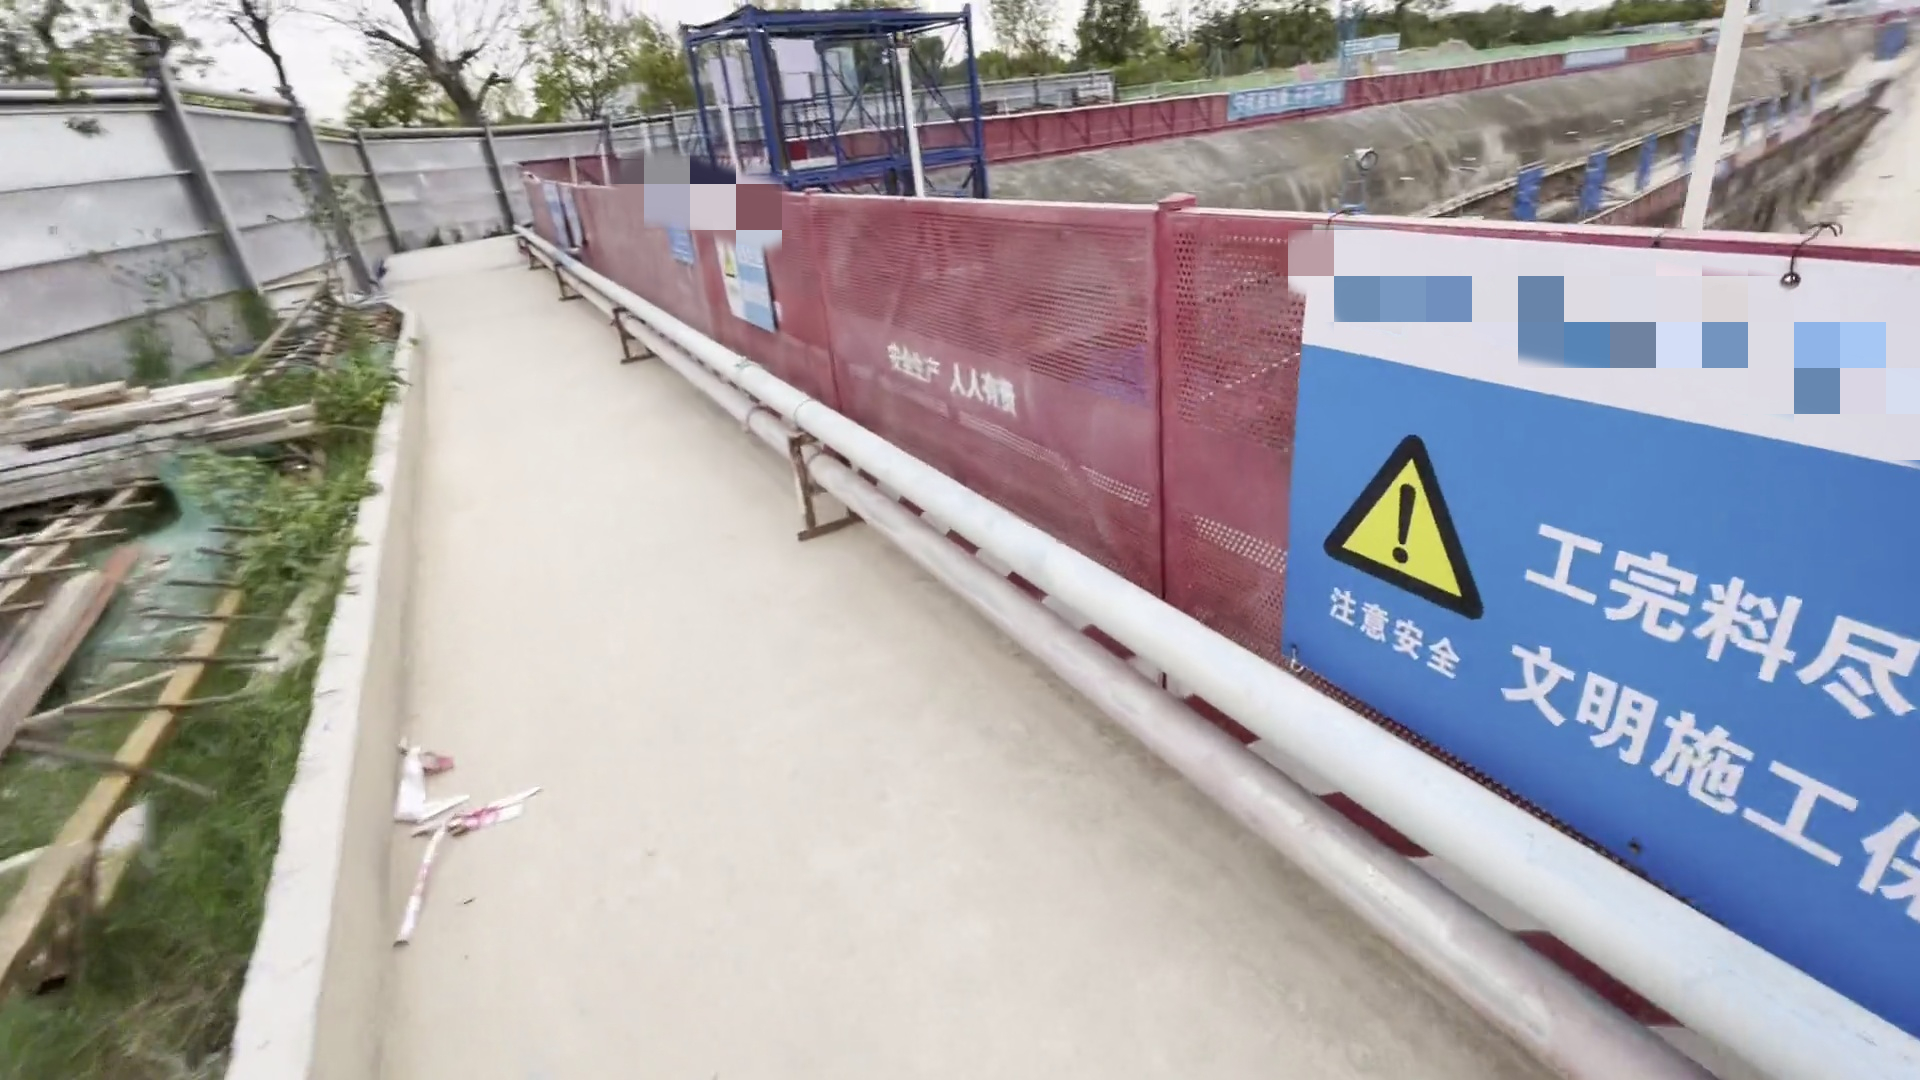fence: (524, 164, 1360, 650), (959, 36, 1716, 170)
slogan: (1296, 227, 1920, 956), (644, 196, 786, 335), (1222, 73, 1353, 123), (533, 178, 601, 258), (1332, 28, 1429, 76)
wood: (7, 356, 318, 492)
